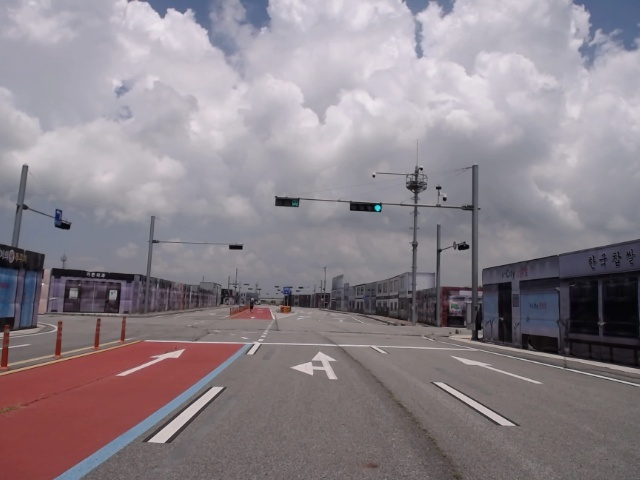straight_green_4: (350, 200, 382, 213)
